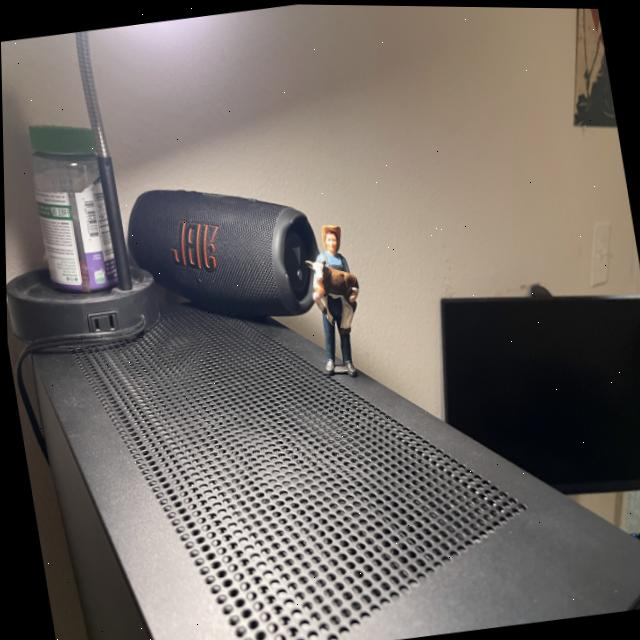cow: (294, 252, 363, 309)
person: (314, 222, 356, 271)
